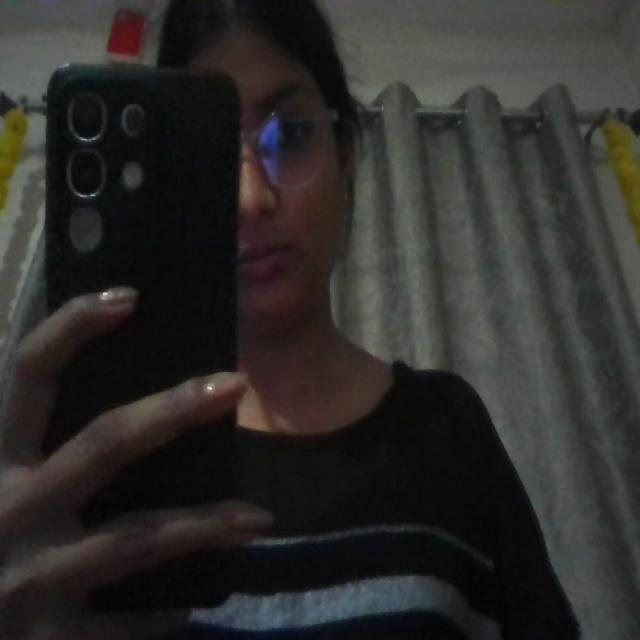phone: (36, 65, 239, 455), (81, 416, 234, 525), (98, 549, 226, 608)
